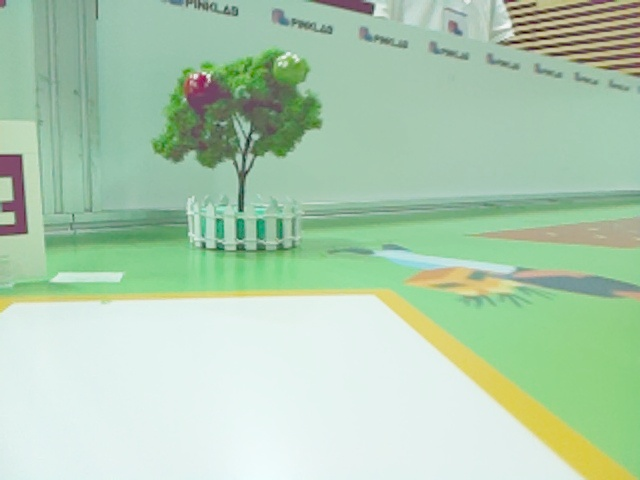apple: (181, 71, 231, 113)
